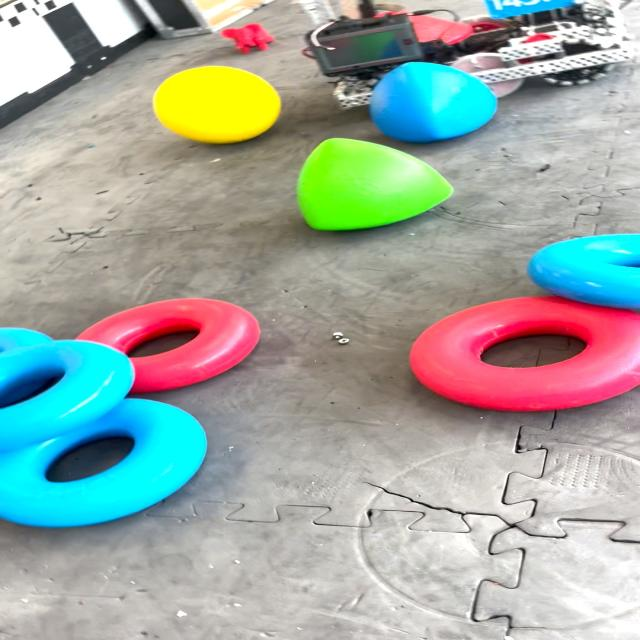Blue-Ring: (0, 399, 207, 527), (0, 340, 133, 452), (527, 234, 640, 310)
Red-Ring: (409, 296, 640, 411), (78, 299, 260, 392)
